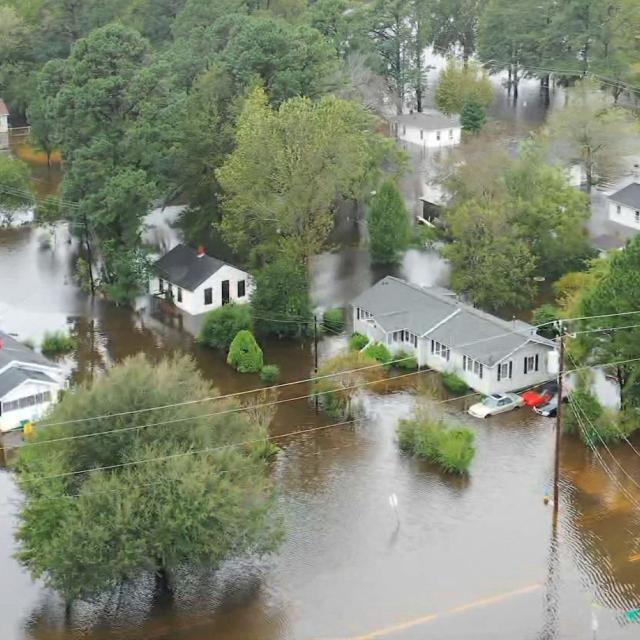flooded_areas: (0, 110, 634, 640)
